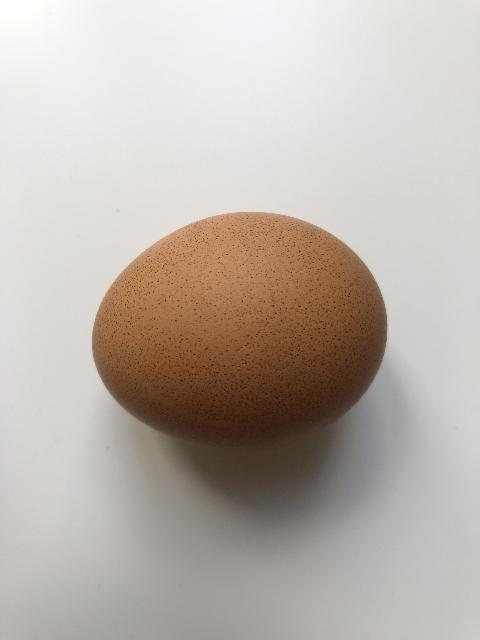Sano: (91, 212, 388, 447)
